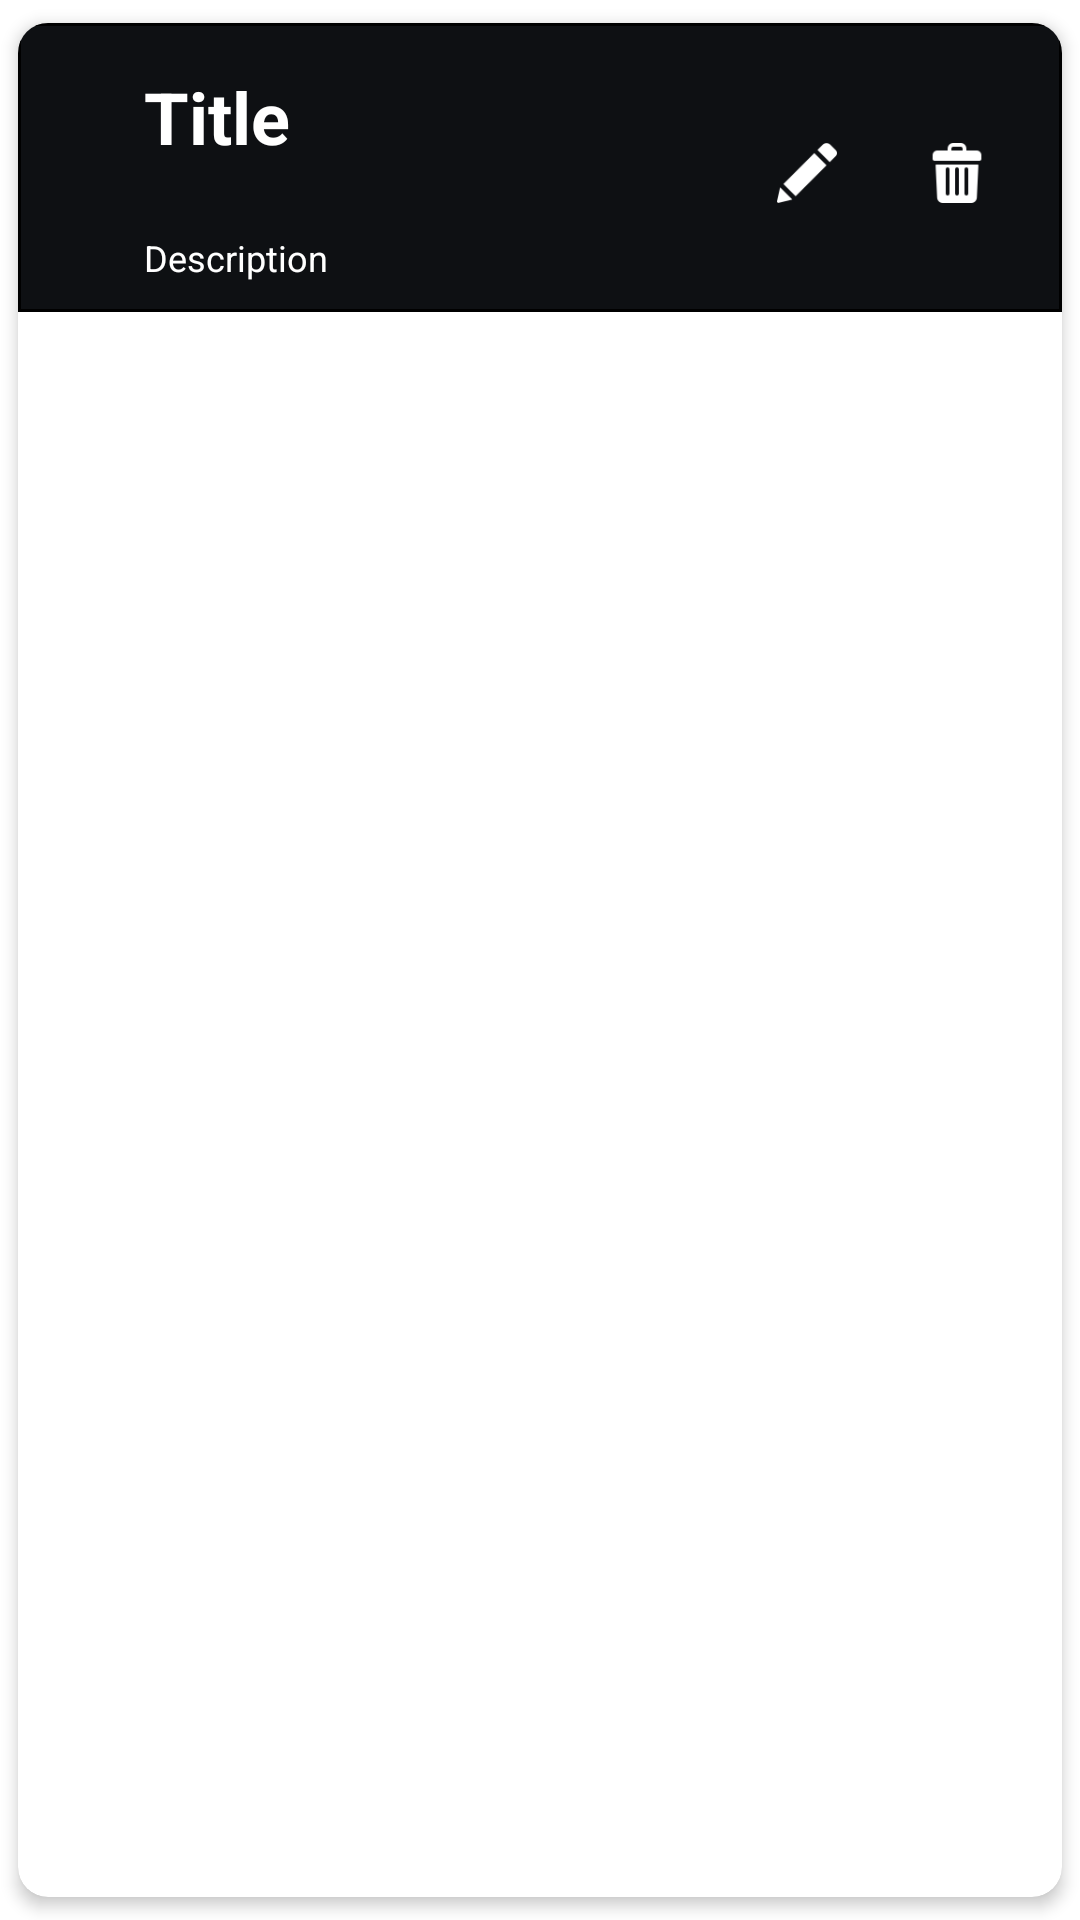

Locate icon controls on the screen. Image size 1080px x 1920px, boxes as box=[x1, y1, x2, y2].
editicon: box=[777, 143, 837, 203]
trash: box=[932, 143, 982, 203]
